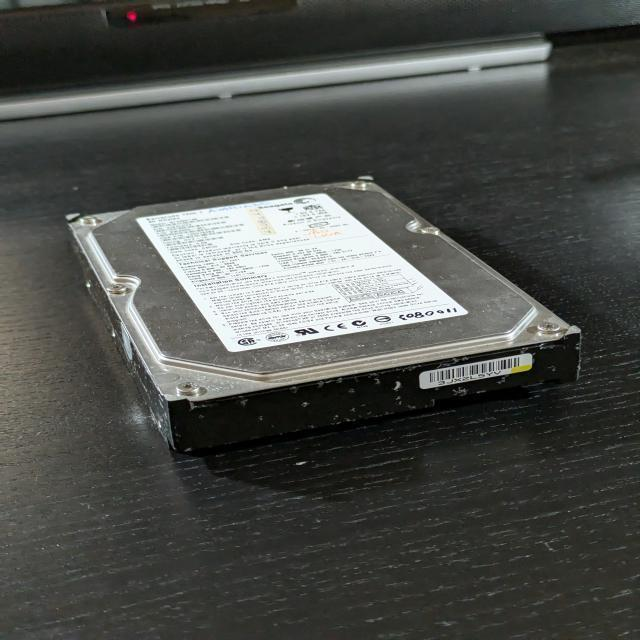DISK: (66, 174, 582, 454)
